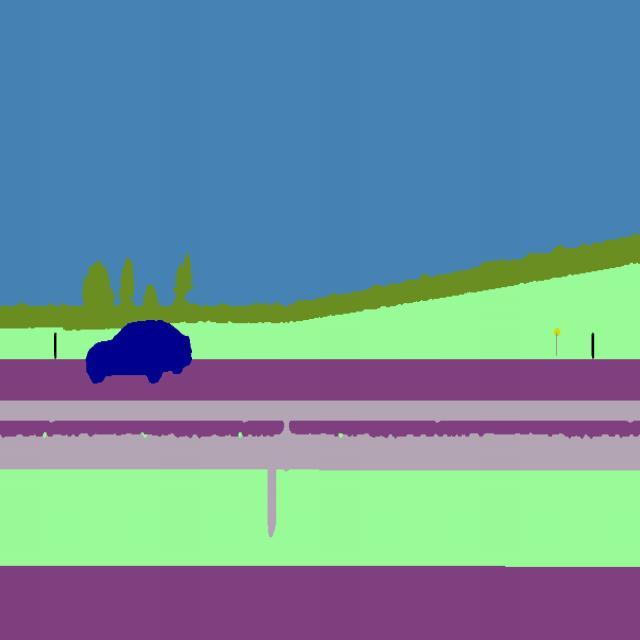safe: (84, 313, 193, 387)
